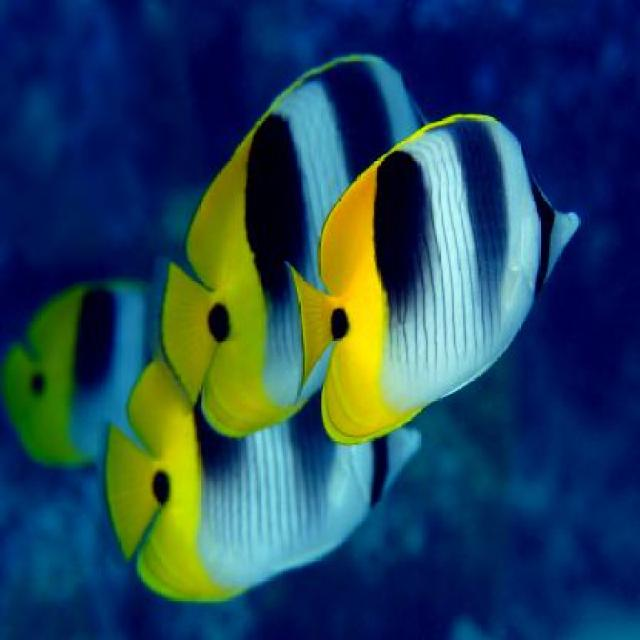ButterflyFish: (166, 59, 420, 433), (295, 115, 581, 446), (108, 366, 415, 604), (6, 272, 147, 469)
